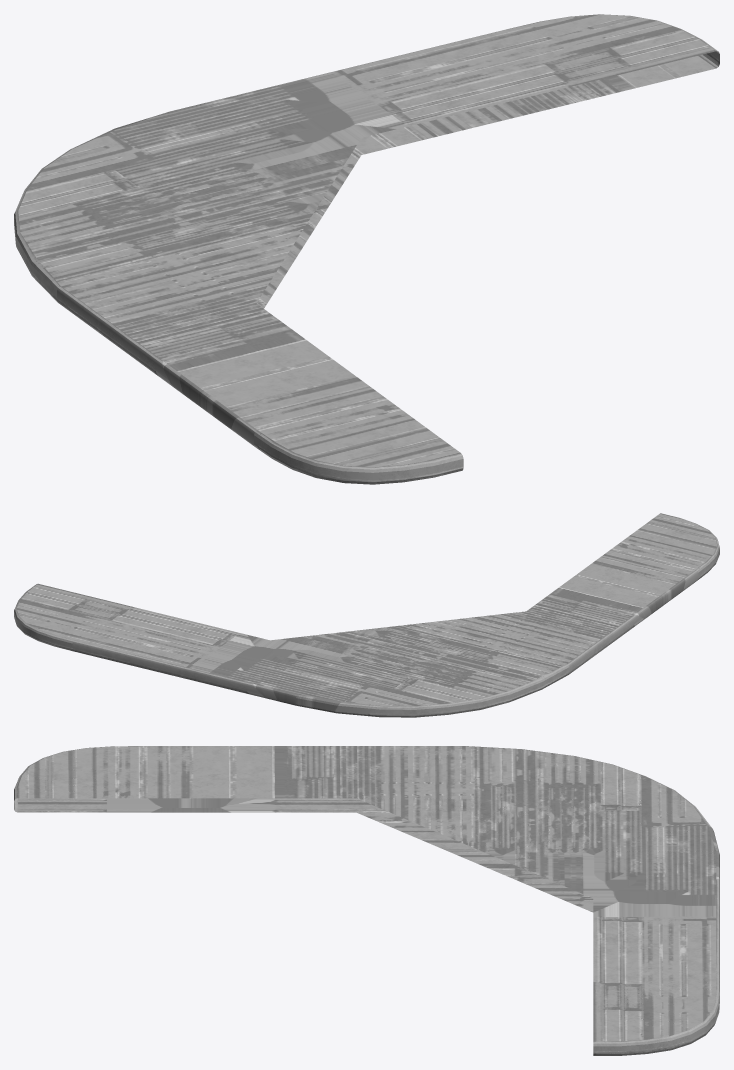
Rendered from SM_Building04_Canopy3R.fbx.
3 views of the same model, one above another, from view 1: azimuth 30°, elevation 25°; view 2: azimuth 150°, elevation 25°; view 3: azimuth 270°, elevation 25° (orthographic). The views are drawn at different scales.
Parts seen in each view (by area): view 1: SM_Building04_Canopy3R_LOD0; view 2: SM_Building04_Canopy3R_LOD0; view 3: SM_Building04_Canopy3R_LOD0.
Boxes of the visible parts, x1,y1,x2,y2 form: SM_Building04_Canopy3R_LOD0: (14,14,719,484); SM_Building04_Canopy3R_LOD0: (14,513,719,717); SM_Building04_Canopy3R_LOD0: (14,746,719,1055).
Size of the model in its own units: 447 by 447 by 10.56.
